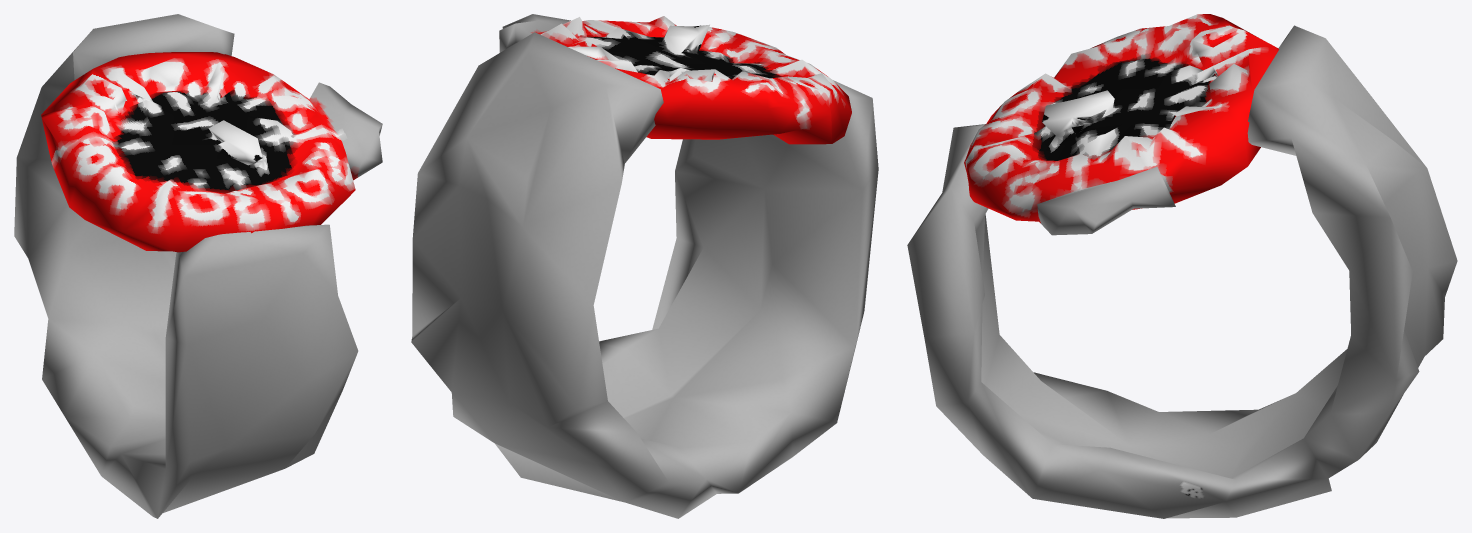
File: sub red.glb
3 views of the same model, side by side, from view 1: azimuth 30°, elevation 25°; view 2: azimuth 150°, elevation 25°; view 3: azimuth 270°, elevation 25° (orthographic). The views are drawn at different scales.
Parts seen in each view (by area): view 1: watch_sub_red.001; view 2: watch_sub_red.001; view 3: watch_sub_red.001.
Boxes of the visible parts, x1,y1,x2,y2 form: watch_sub_red.001: (14, 14, 382, 518); watch_sub_red.001: (411, 14, 878, 518); watch_sub_red.001: (907, 14, 1457, 518).
Bounding box in the file's own units: 0.0372 × 0.0482 × 0.0512.
2 materials, 2 textured.
